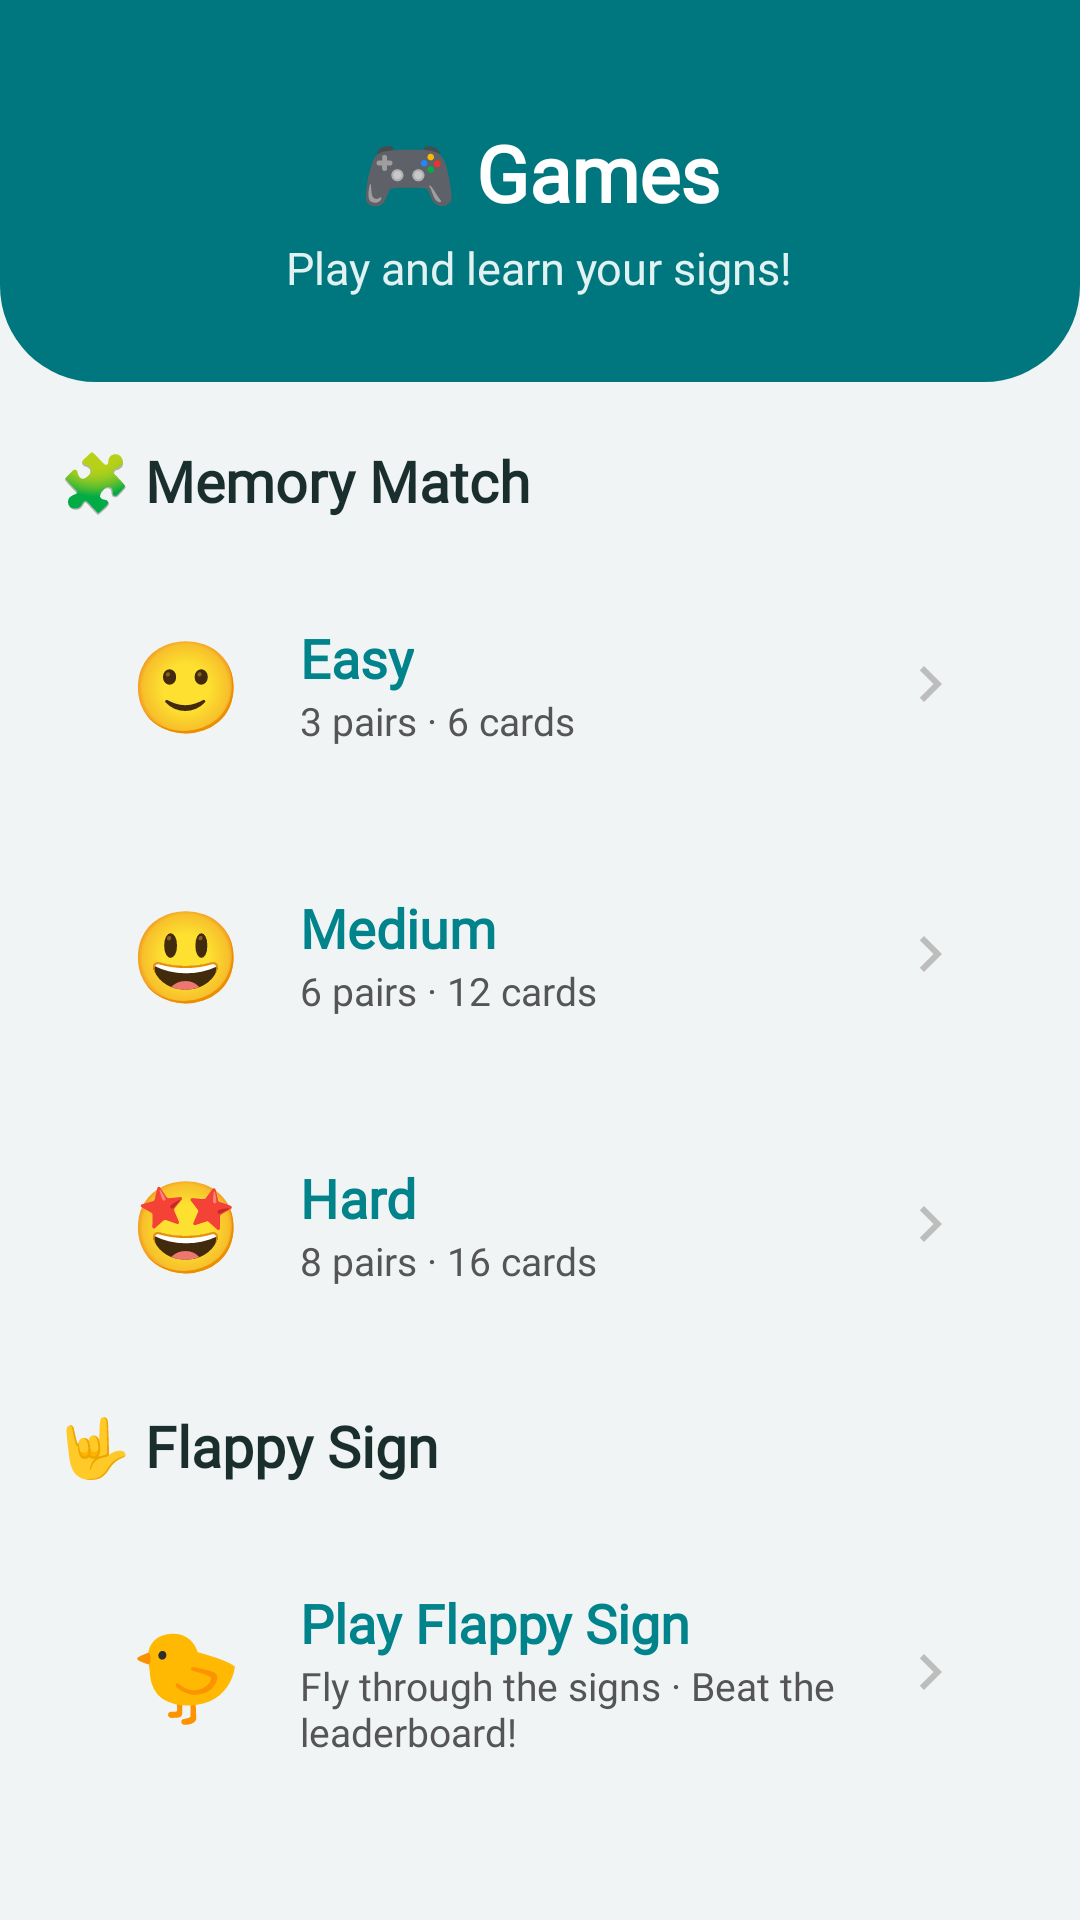

Icon bounding boxes for this 1080x1920 phone screenshot, format detection(x1, y1, x2, y2):
chevron right: detection(920, 666, 942, 702), detection(920, 936, 942, 972), detection(920, 1206, 942, 1242), detection(920, 1654, 942, 1690)
